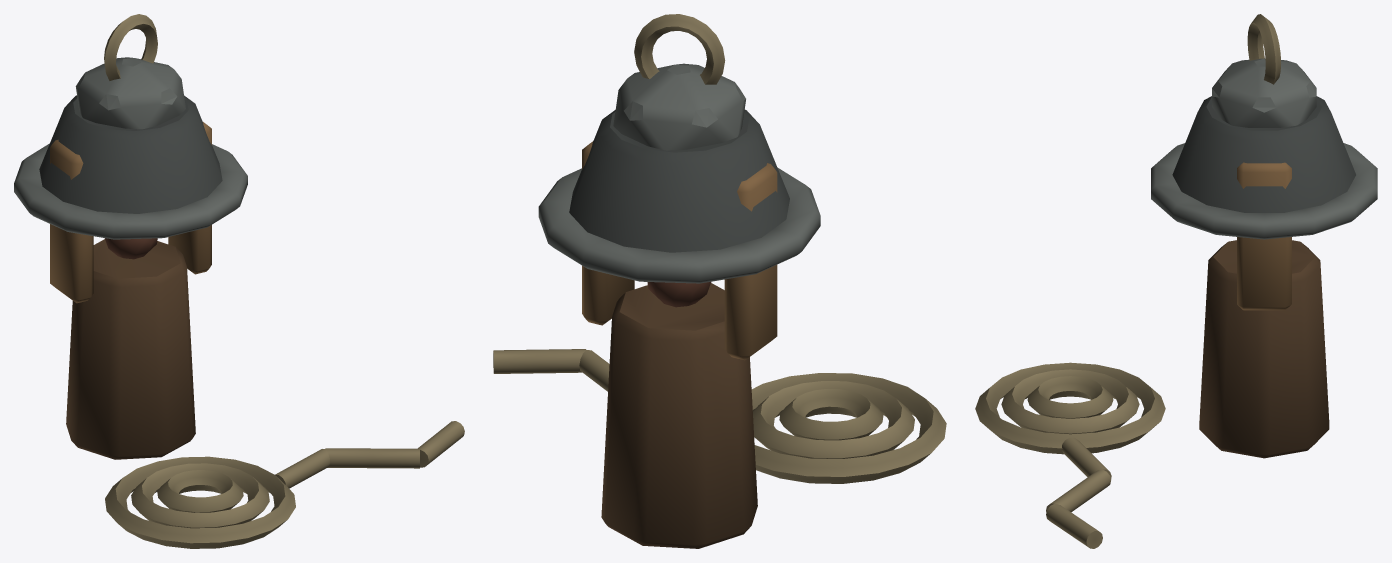
Rendered from shift_bell_a.glb.
3 renders of one model, left to right at view 1: azimuth 30°, elevation 25°; view 2: azimuth 150°, elevation 25°; view 3: azimuth 270°, elevation 25°, orthographic. The views are drawn at different scales.
Parts seen in each view (by area): view 1: Surface; view 2: Surface; view 3: Surface.
Part boxes in pixels (box(x1,y1,x2,y2)): Surface: box(14, 14, 464, 548); Surface: box(493, 14, 946, 548); Surface: box(975, 14, 1377, 548).
Size of the model in its own units: 2.52 by 2.84 by 2.49.
